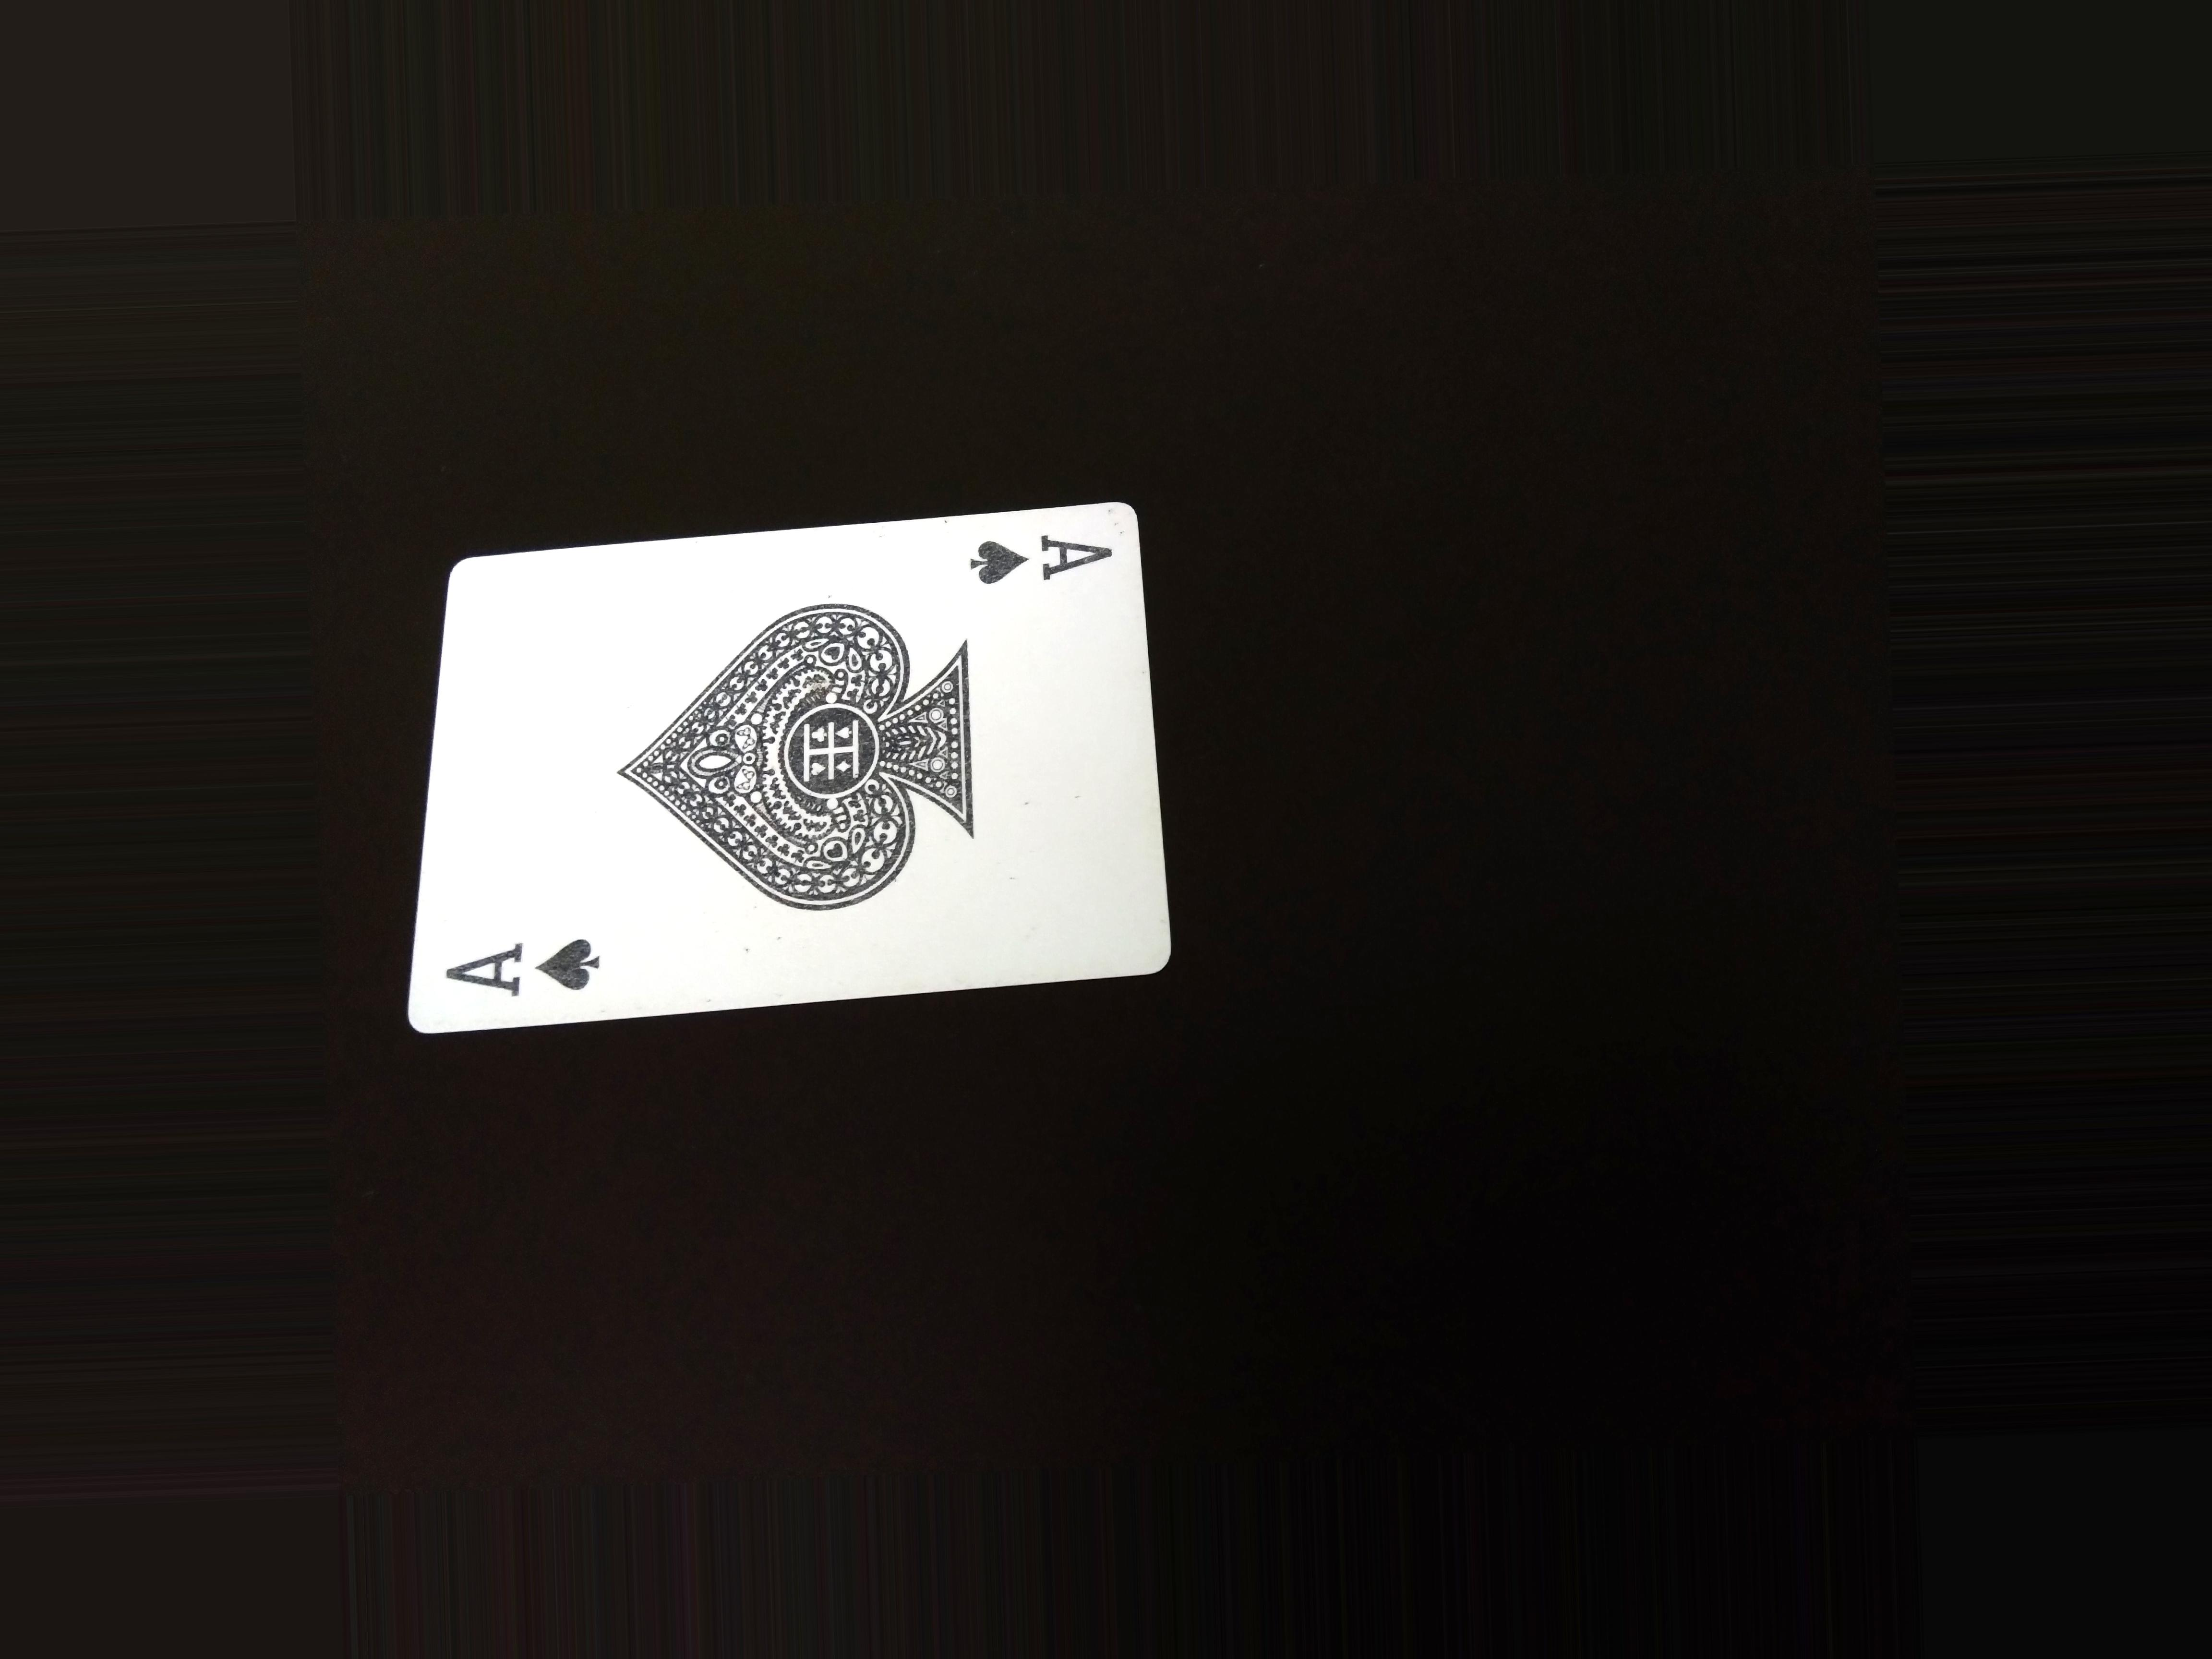AS: (444, 925, 631, 1000)
